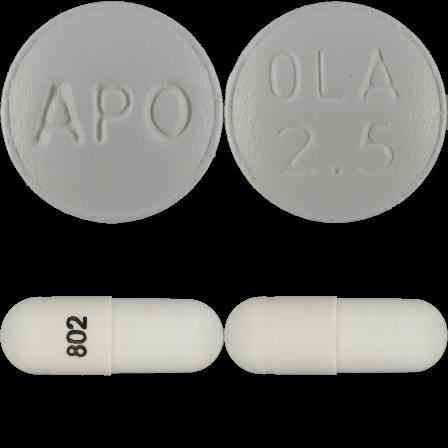63187-453: (0, 0, 224, 224)
